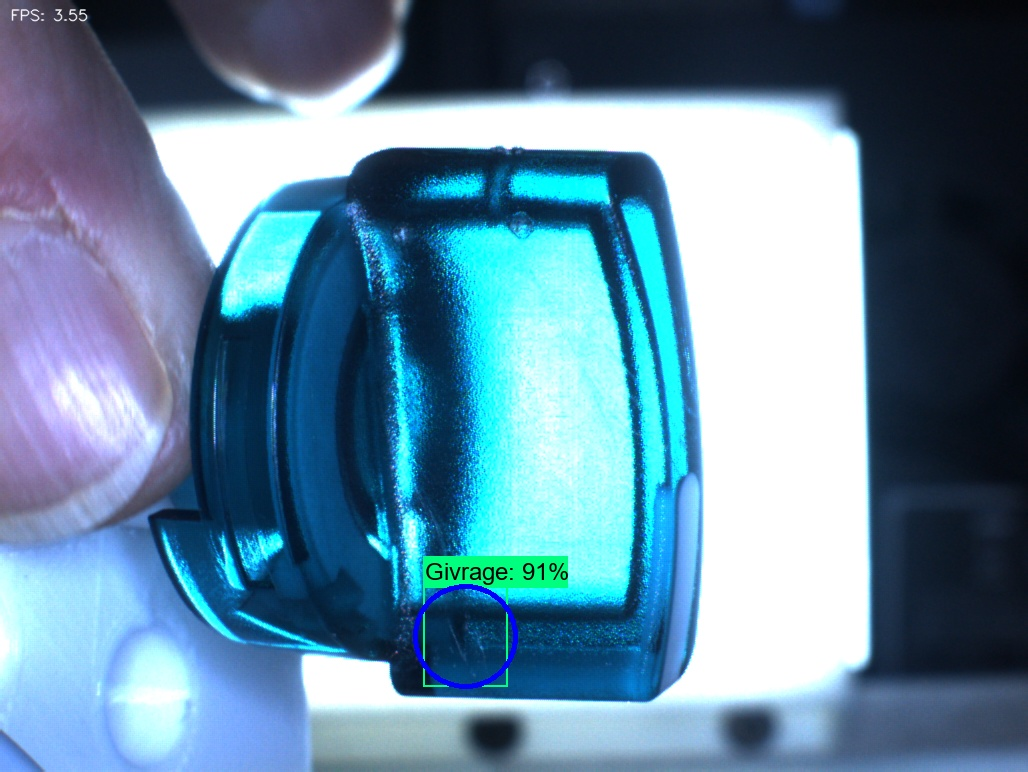Bulle: (475, 174, 565, 271)
